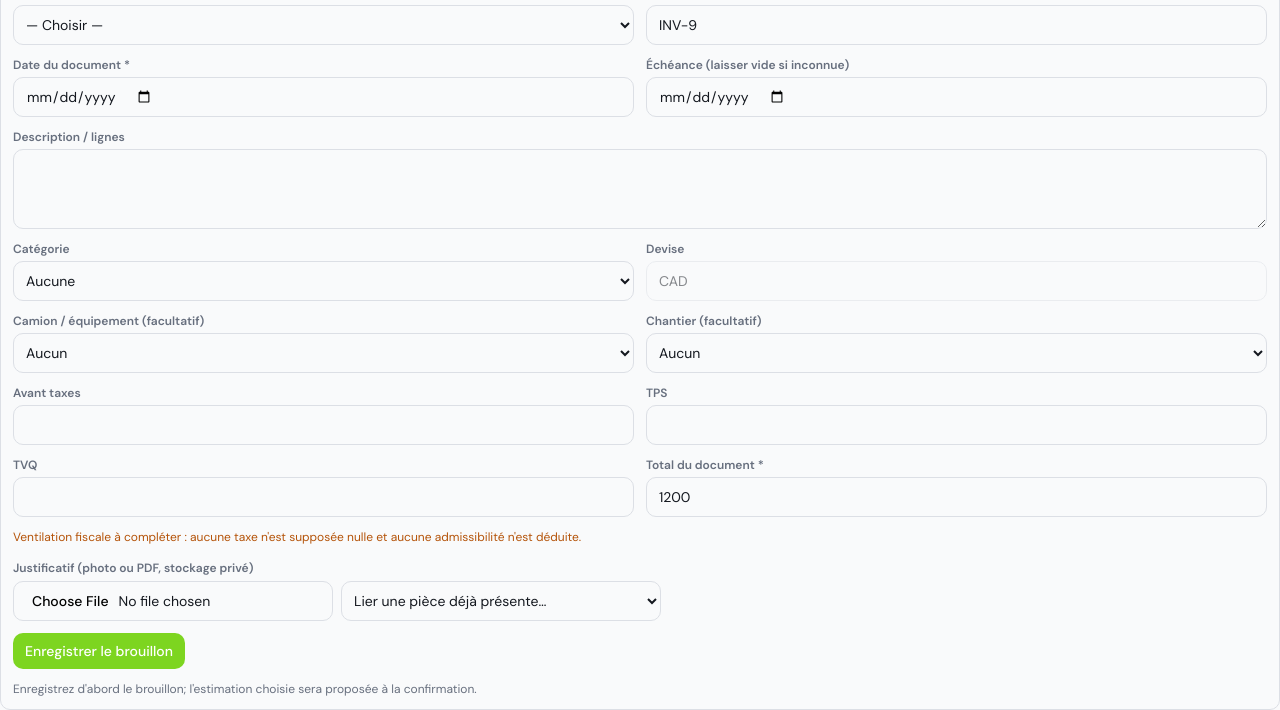
Test: FIN-12A — saisie › erreur de sauvegarde : saisie conservée à l'écran et sur l'appareil
(page scrolled)
Click the button "Enregistrer le brouillon": x=99, y=651 [13,633,185,669]
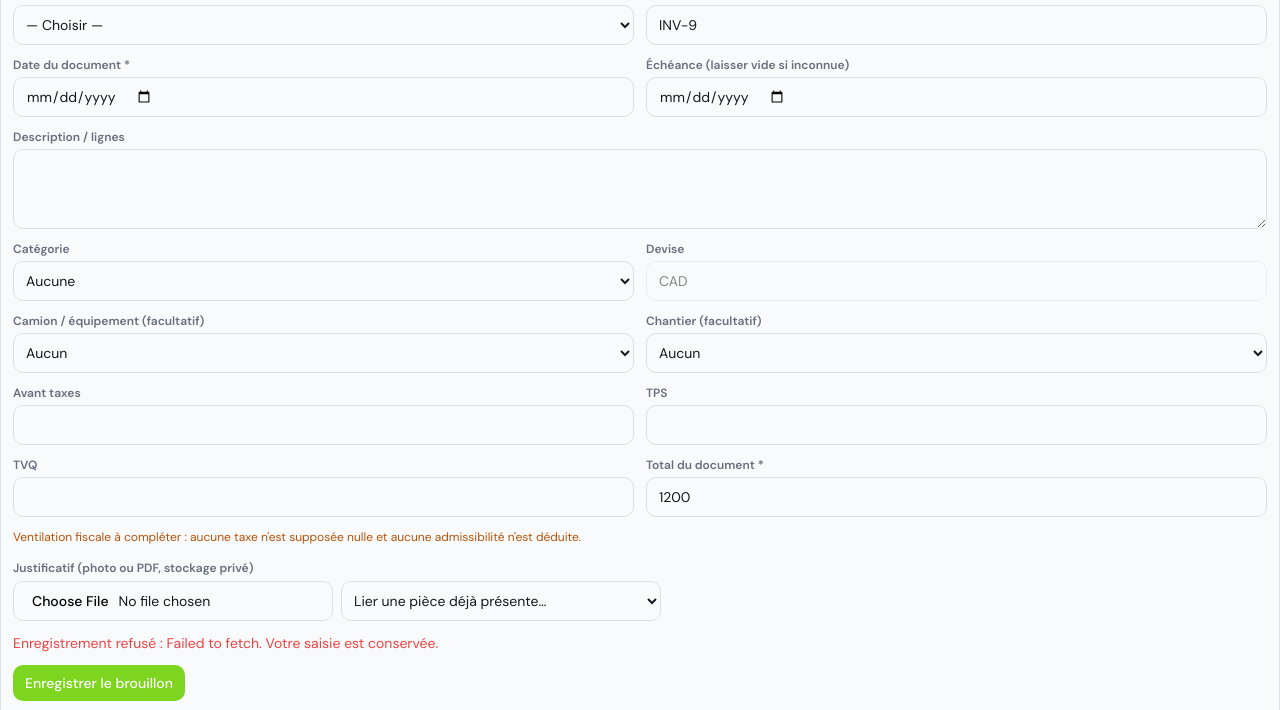
Check: the field labelled "Référence" holds "INV-9", box [646,5,1267,45]
Check: the message shows "Votre saisie est conservée", box [259,634,438,652]
